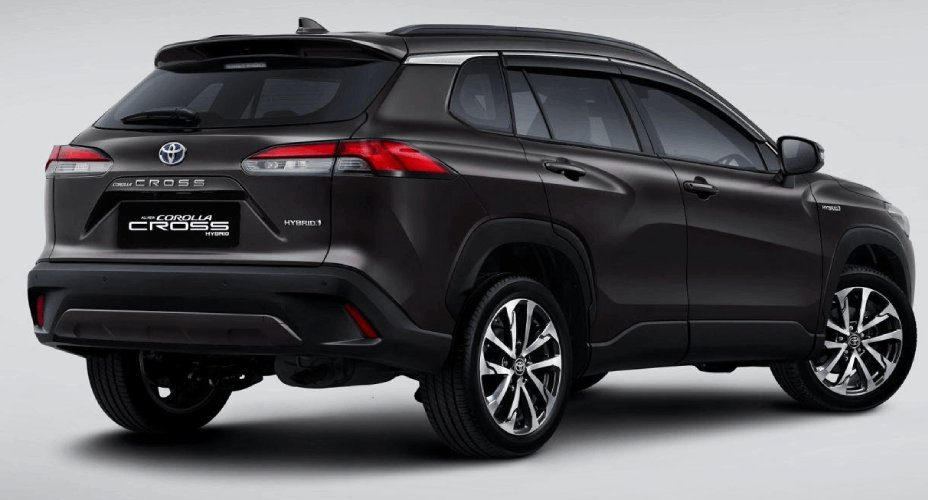mobil: (45, 20, 925, 500)
